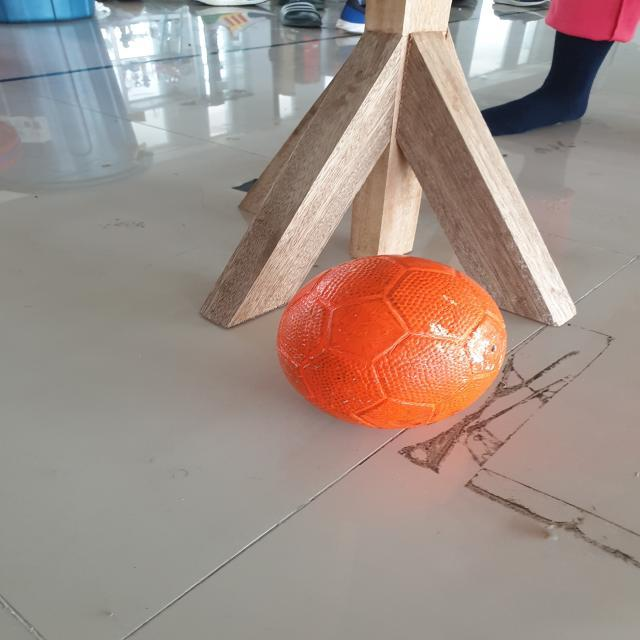bola: (270, 247, 516, 436)
